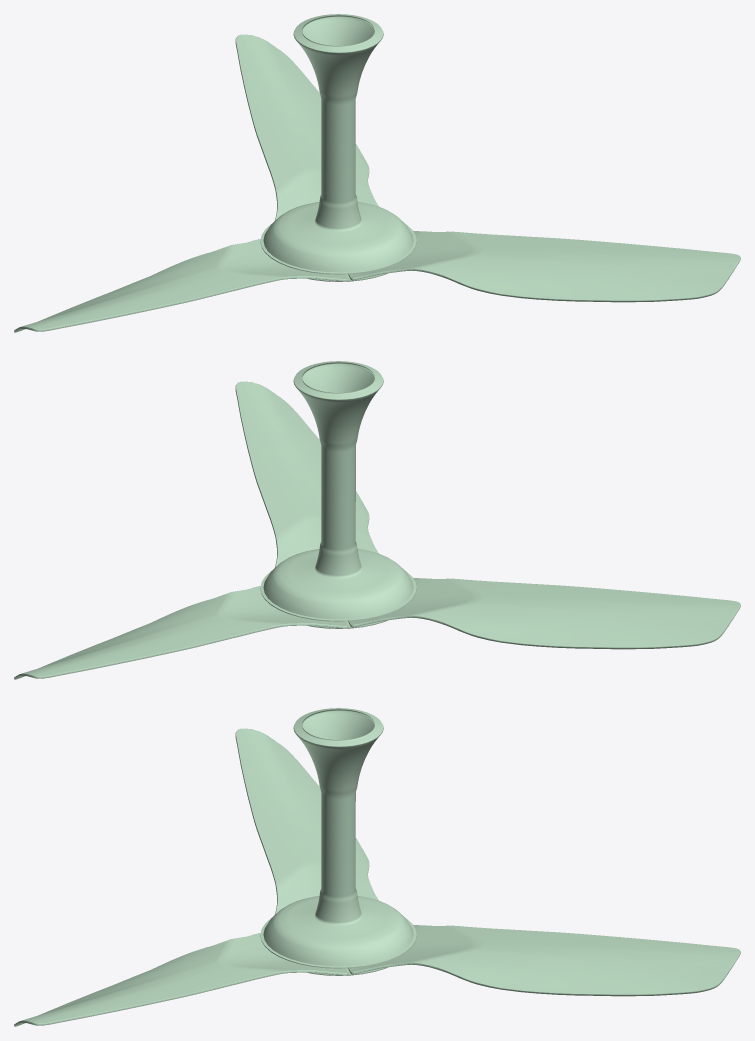
Rendered from Ceiling_Fan_Gen_3.fbx.
The picture shows the model from 3 angles, top to bottom: view 1: azimuth 30°, elevation 25°; view 2: azimuth 150°, elevation 25°; view 3: azimuth 270°, elevation 25°; orthographic projection.
Parts seen in each view (by area): view 1: mesh_fan_blades, mesh_fan_boddy; view 2: mesh_fan_blades, mesh_fan_boddy; view 3: mesh_fan_blades, mesh_fan_boddy.
Boxes of the visible parts, x1,y1,x2,y2 form: mesh_fan_blades: (14,34,740,332); mesh_fan_boddy: (260,14,416,281); mesh_fan_blades: (14,381,740,679); mesh_fan_boddy: (260,361,416,628); mesh_fan_blades: (14,728,740,1026); mesh_fan_boddy: (260,708,416,975).
Size of the model in its own units: 152 by 55.37 by 157.
